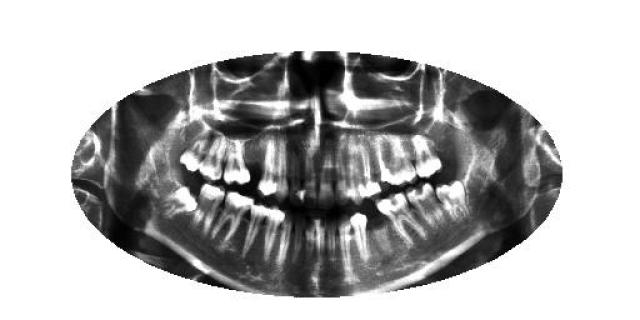Restorations: (159, 184, 199, 220)
